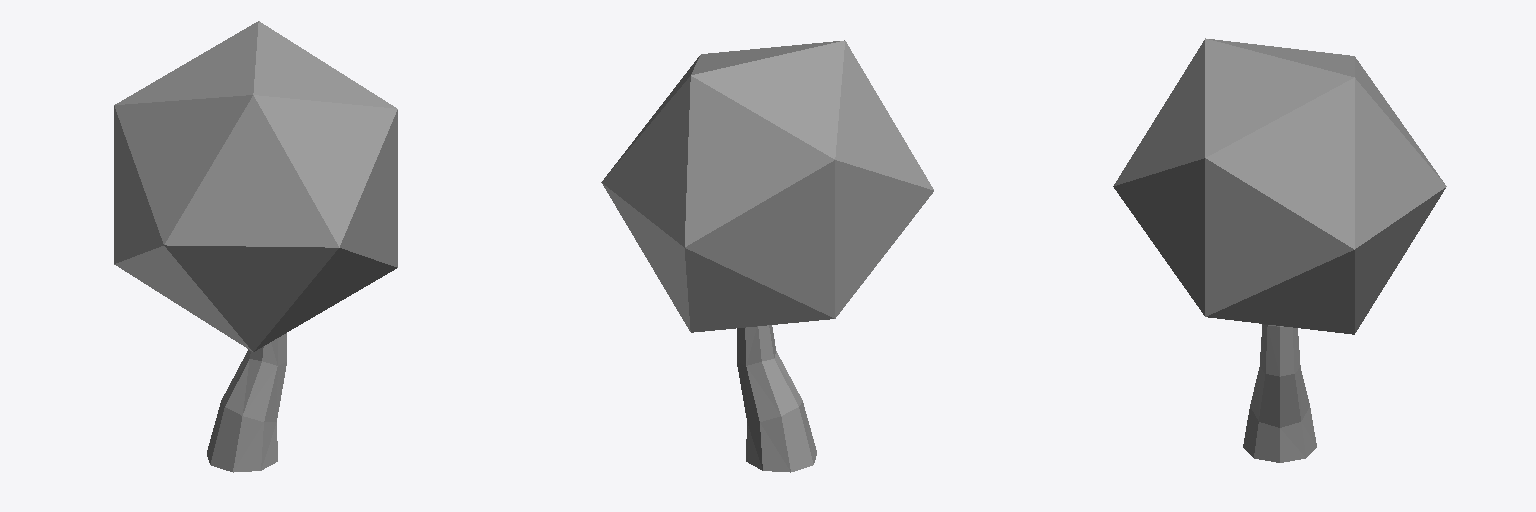
Rendered from Bush3.obj.
3 views of the same model, side by side, from view 1: azimuth 30°, elevation 25°; view 2: azimuth 150°, elevation 25°; view 3: azimuth 270°, elevation 25° (orthographic).
Parts seen in each view (by area): view 1: Icosphere_Icosphere.004; view 2: Icosphere_Icosphere.004; view 3: Icosphere_Icosphere.004.
Boxes of the visible parts, box(x1,y1,x2,y2) form: Icosphere_Icosphere.004: box(114, 21, 397, 472); Icosphere_Icosphere.004: box(601, 40, 933, 472); Icosphere_Icosphere.004: box(1113, 38, 1446, 462).
Size of the model in its own units: 0.8552 by 1.25 by 0.9562.